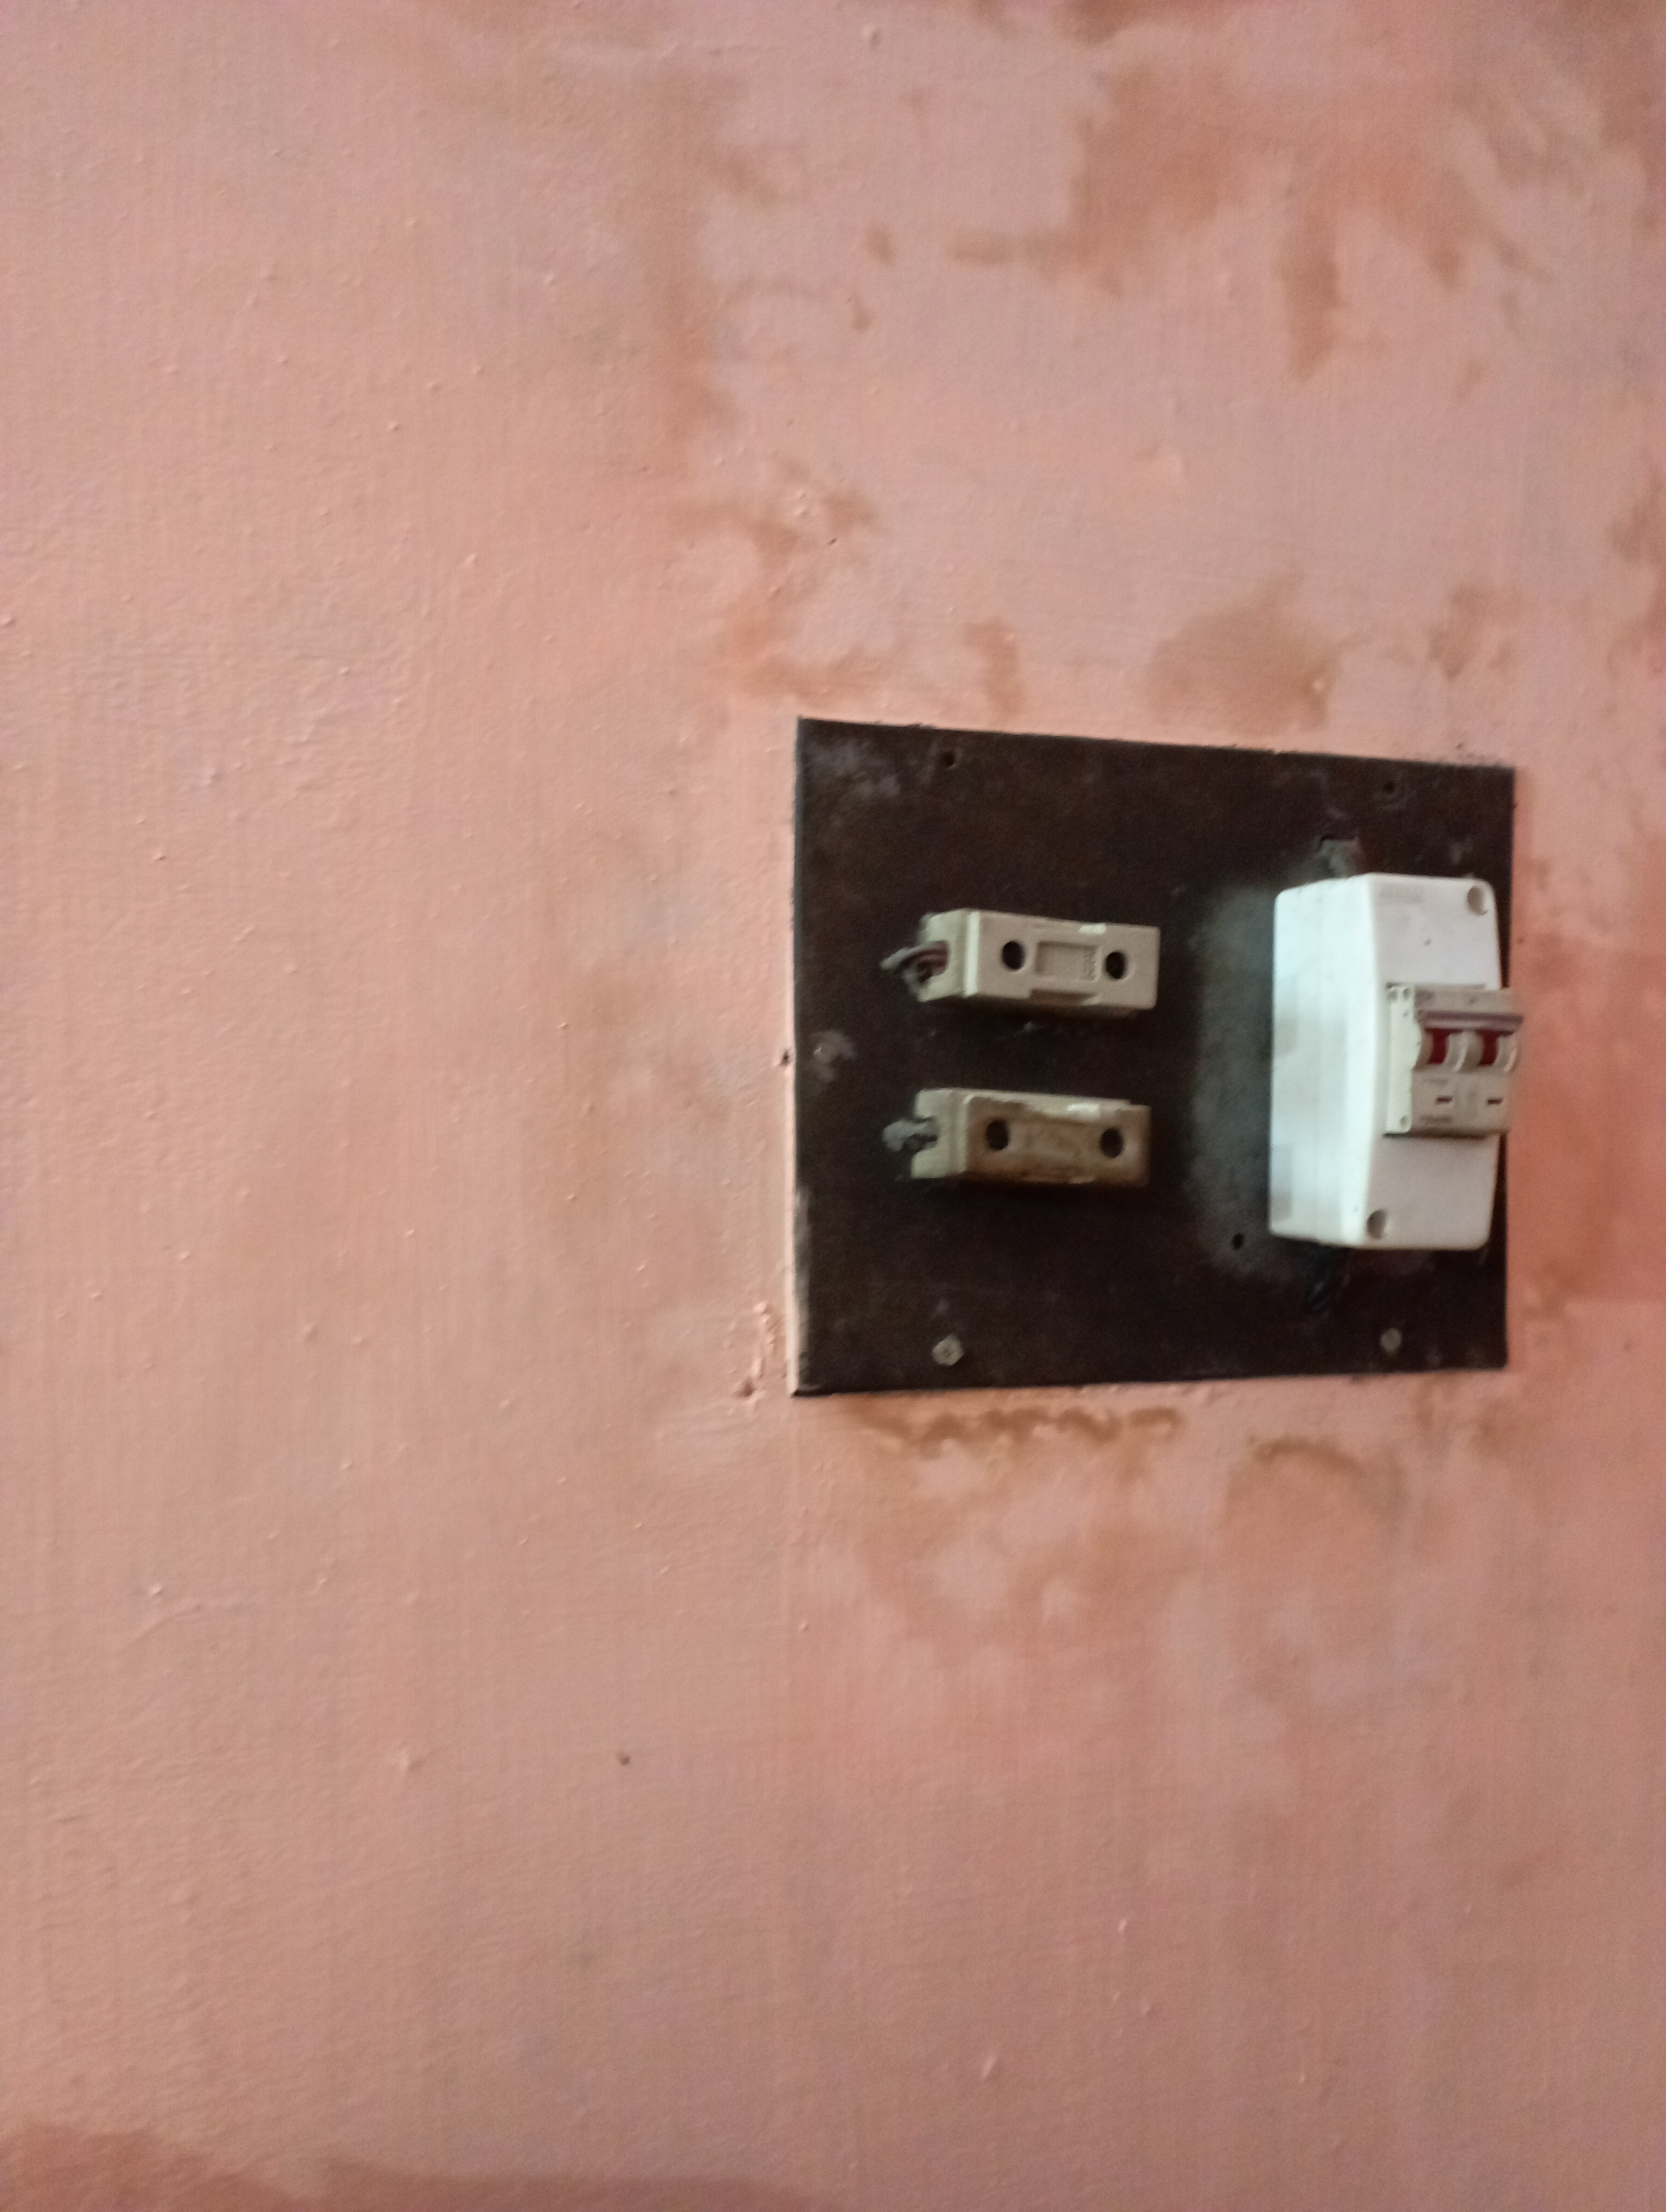ciruit_breaker: (1251, 867, 1547, 1282)
fuse: (891, 1084, 1185, 1212), (891, 908, 1169, 1032)
